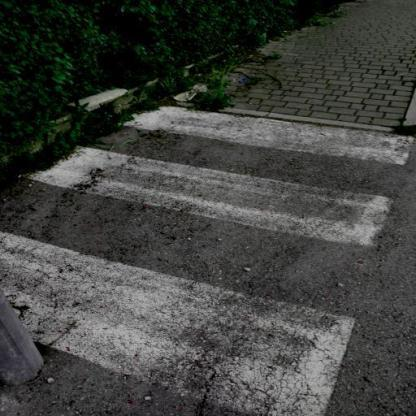crosswalk: (10, 101, 414, 251)
